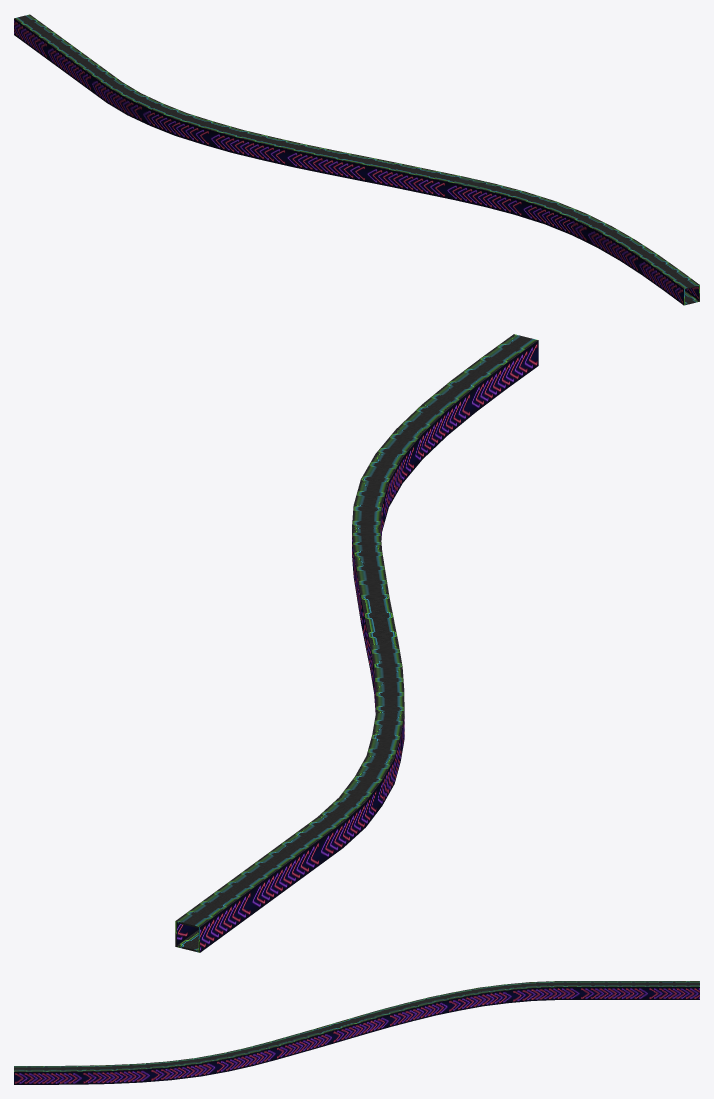
File: Square_Ramp.FBX
3 views of the same model, one above another, from view 1: azimuth 30°, elevation 25°; view 2: azimuth 150°, elevation 25°; view 3: azimuth 270°, elevation 25° (orthographic). The views are drawn at different scales.
Visible parts, largest first — view 1: Line026; view 2: Line026; view 3: Line026.
Boxes of the visible parts, x1,y1,x2,y2 form: Line026: (14, 14, 699, 305); Line026: (175, 334, 538, 952); Line026: (14, 981, 699, 1084).
Bounding box in the file's own units: 271 × 18 × 865.
